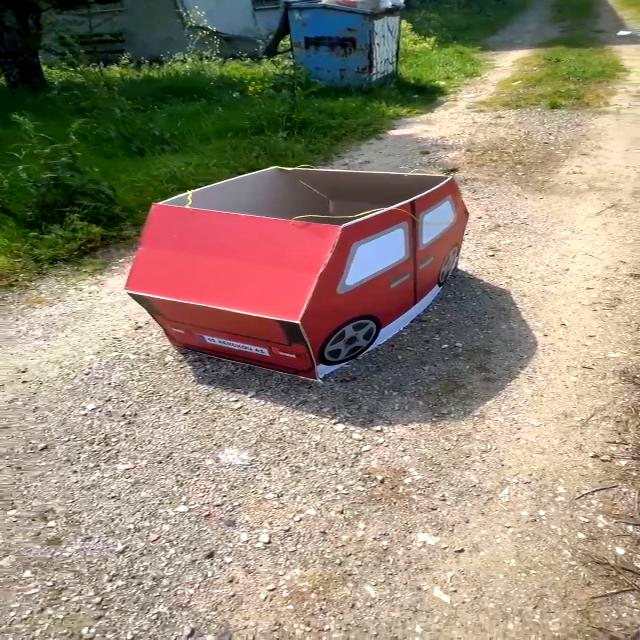red_car: (106, 146, 503, 395)
